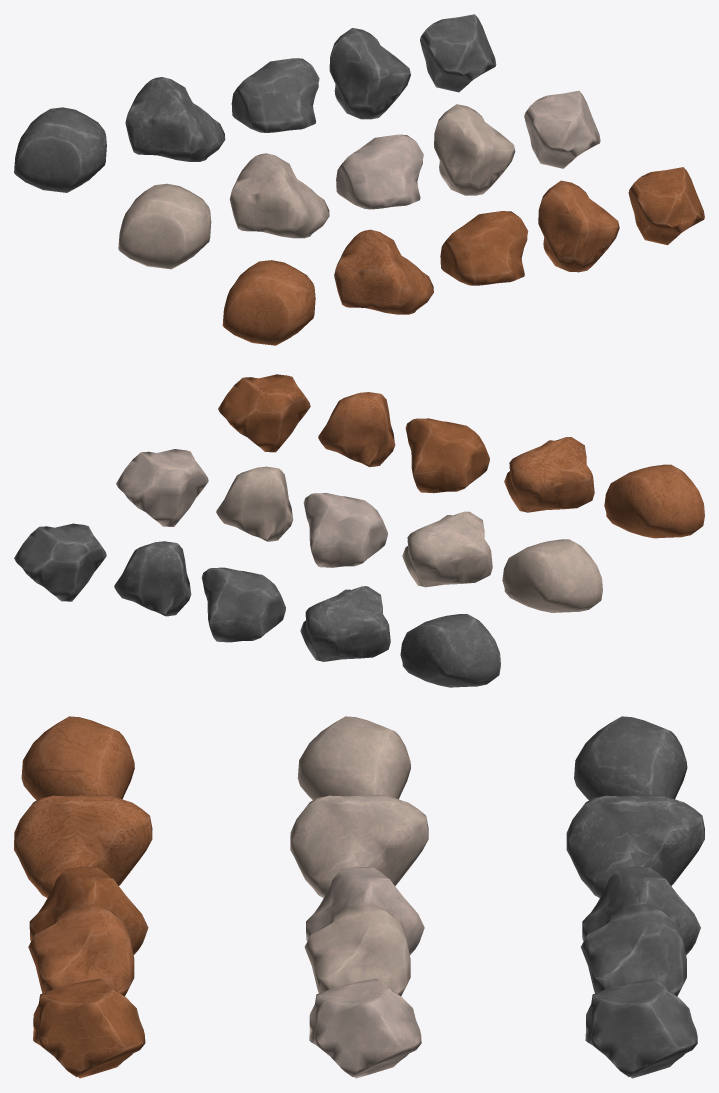
The picture shows the model from 3 angles, top to bottom: view 1: azimuth 30°, elevation 25°; view 2: azimuth 150°, elevation 25°; view 3: azimuth 270°, elevation 25°; orthographic projection. The views are drawn at different scales.
Parts seen in each view (by area): view 1: Medium_rock_1.001, Medium_rock_1.002, Medium_rock_1, Medium_Rock_2.002, Medium_Rock_2, Medium_Rock_2.001, Medium_rock_04.001, Medium_rock_04, Medium_rock_04.002, Medium_Rock_03.002, Medium_Rock_03, Medium_Rock_03.001 (+3 smaller); view 2: Medium_rock_1, Medium_rock_1.002, Medium_rock_1.001, Medium_Rock_2.002, Medium_Rock_2.001, Medium_Rock_2, Medium_Rock_03, Medium_Rock_03.002, Medium_Rock_03.001, Medium_rock_5.001, Medium_rock_5, Medium_rock_5.002 (+3 smaller); view 3: Medium_Rock_2, Medium_Rock_2.001, Medium_Rock_2.002, Medium_rock_5.002, Medium_rock_5, Medium_rock_5.001, Medium_rock_1.001, Medium_rock_1.002, Medium_rock_1, Medium_rock_04.002, Medium_rock_04, Medium_rock_04.001 (+3 smaller).
Part boxes in pixels (x1=…): Medium_rock_1.001: x1=14, y1=107, x2=106, y2=192; Medium_rock_1.002: x1=118, y1=183, x2=211, y2=269; Medium_rock_1: x1=222, y1=260, x2=315, y2=345; Medium_Rock_2.002: x1=229, y1=153, x2=329, y2=238; Medium_Rock_2: x1=334, y1=229, x2=433, y2=314; Medium_Rock_2.001: x1=125, y1=77, x2=225, y2=161; Medium_rock_04.001: x1=329, y1=28, x2=410, y2=119; Medium_rock_04: x1=538, y1=180, x2=619, y2=272; Medium_rock_04.002: x1=434, y1=104, x2=515, y2=195; Medium_Rock_03.002: x1=336, y1=134, x2=423, y2=209; Medium_Rock_03: x1=440, y1=211, x2=528, y2=285; Medium_Rock_03.001: x1=231, y1=58, x2=319, y2=132; Medium_rock_1: x1=604, y1=464, x2=704, y2=538; Medium_rock_1.002: x1=502, y1=539, x2=602, y2=612; Medium_rock_1.001: x1=400, y1=614, x2=500, y2=687; Medium_Rock_2.002: x1=402, y1=511, x2=492, y2=587; Medium_Rock_2.001: x1=300, y1=586, x2=390, y2=661; Medium_Rock_2: x1=504, y1=437, x2=594, y2=512; Medium_Rock_03: x1=405, y1=418, x2=489, y2=493; Medium_Rock_03.002: x1=303, y1=493, x2=387, y2=567; Medium_Rock_03.001: x1=201, y1=567, x2=285, y2=642; Medium_rock_5.001: x1=14, y1=523, x2=106, y2=601; Medium_rock_5: x1=218, y1=374, x2=310, y2=452; Medium_rock_5.002: x1=116, y1=449, x2=208, y2=526; Medium_Rock_2: x1=14, y1=794, x2=152, y2=897; Medium_Rock_2.001: x1=566, y1=794, x2=704, y2=897; Medium_Rock_2.002: x1=290, y1=794, x2=428, y2=897; Medium_rock_5.002: x1=309, y1=978, x2=421, y2=1078; Medium_rock_5: x1=33, y1=978, x2=145, y2=1078; Medium_rock_5.001: x1=585, y1=978, x2=697, y2=1078; Medium_rock_1.001: x1=574, y1=716, x2=687, y2=800; Medium_rock_1.002: x1=297, y1=716, x2=410, y2=800; Medium_rock_1: x1=21, y1=716, x2=134, y2=800; Medium_rock_04.002: x1=304, y1=902, x2=410, y2=996; Medium_rock_04: x1=28, y1=902, x2=134, y2=996; Medium_rock_04.001: x1=581, y1=902, x2=686, y2=996.
Size of the model in its own units: 1331 by 210 by 1251.
15 materials, 15 textured.
